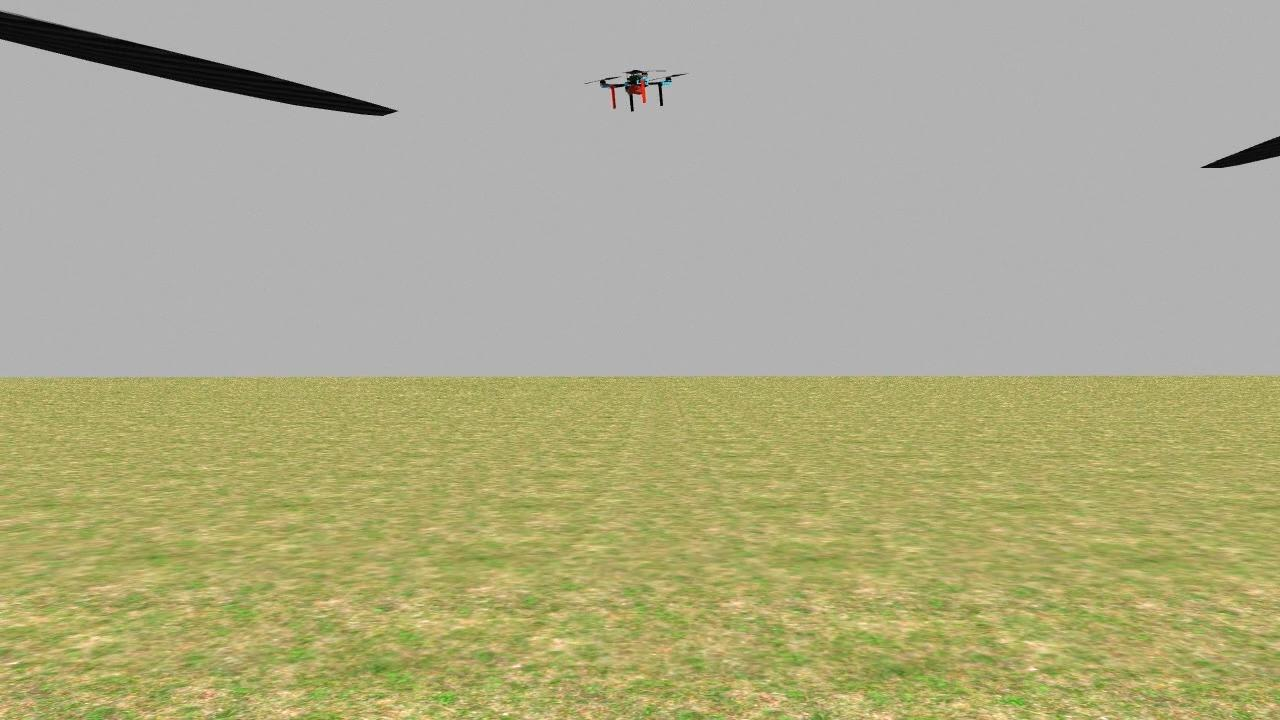UAV: (580, 56, 687, 124)
